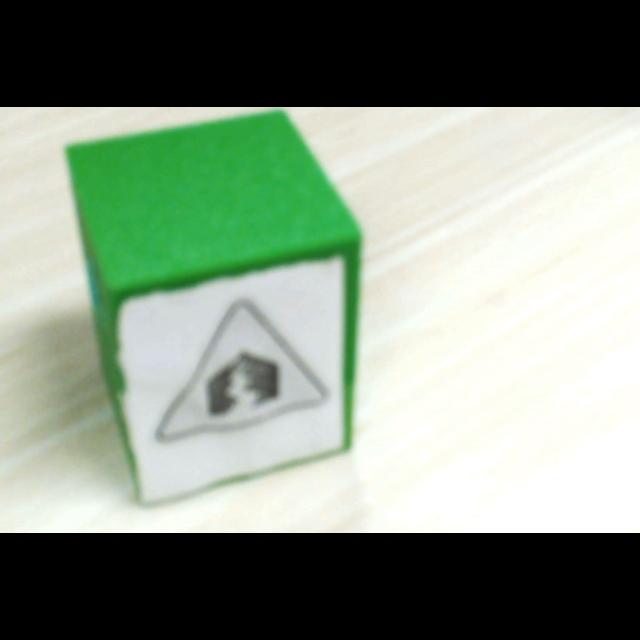Earthquake: (154, 299, 333, 451)
